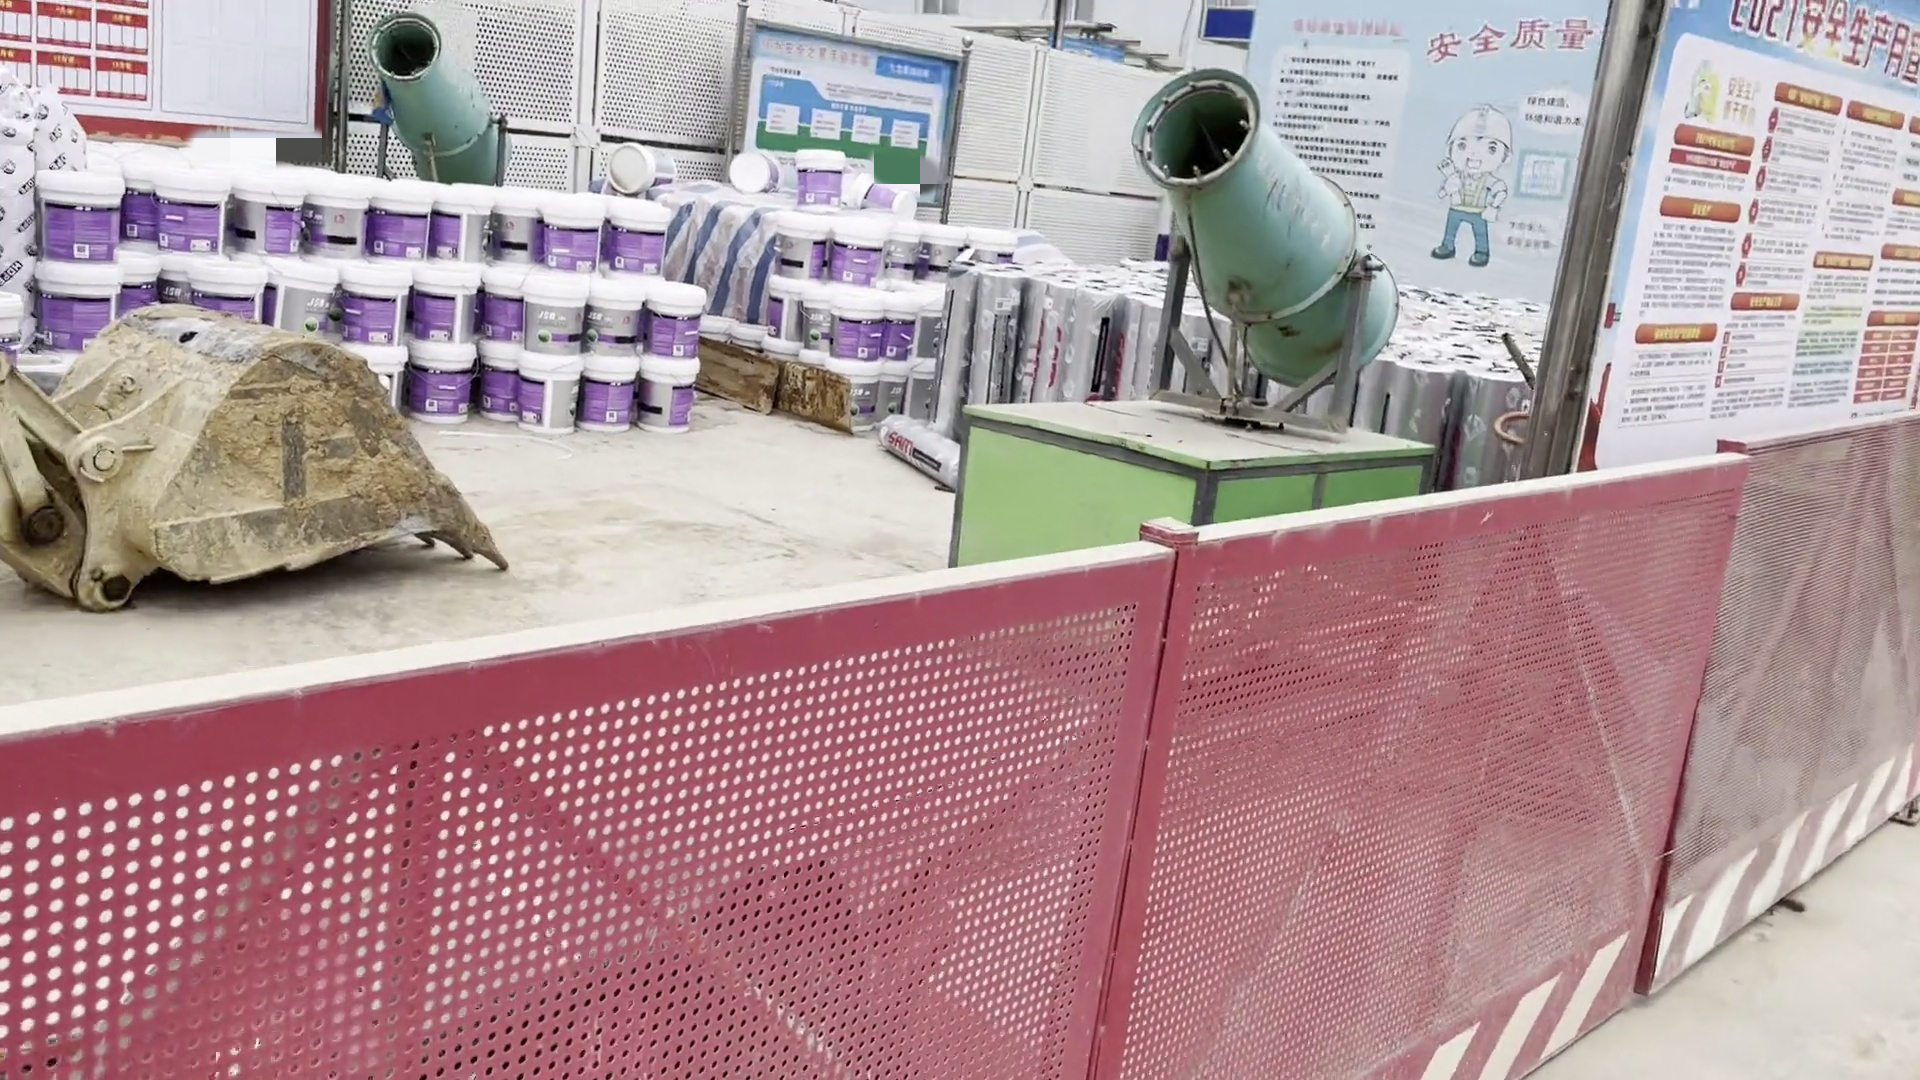fence: (22, 405, 1920, 1069)
